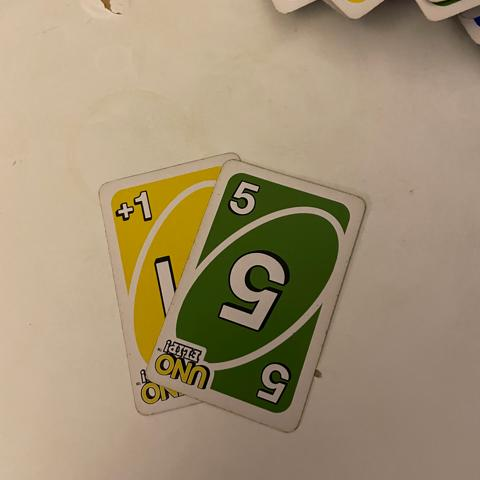lgreen-5: (224, 176, 264, 225)
lyellow-10: (110, 188, 162, 231)
